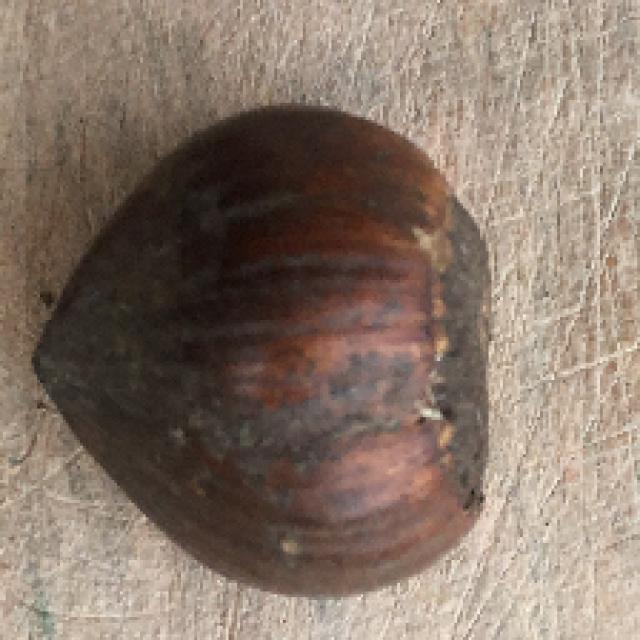DamagedHazelnut: (35, 105, 492, 599)
